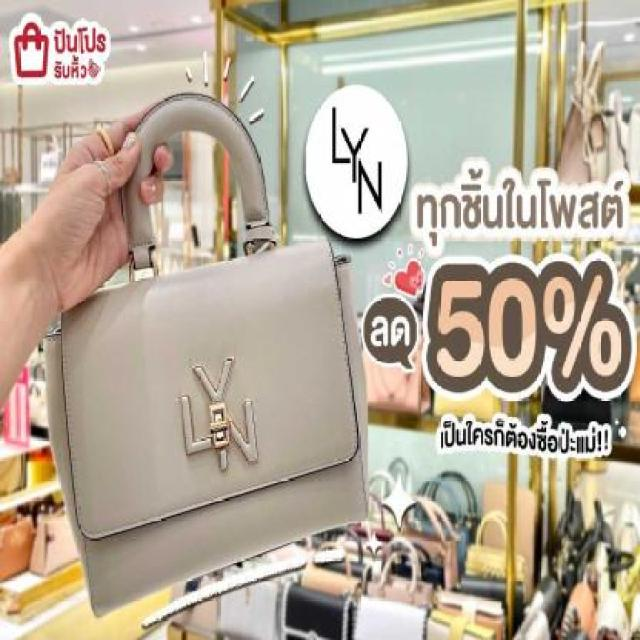Bag: (32, 63, 405, 605)
